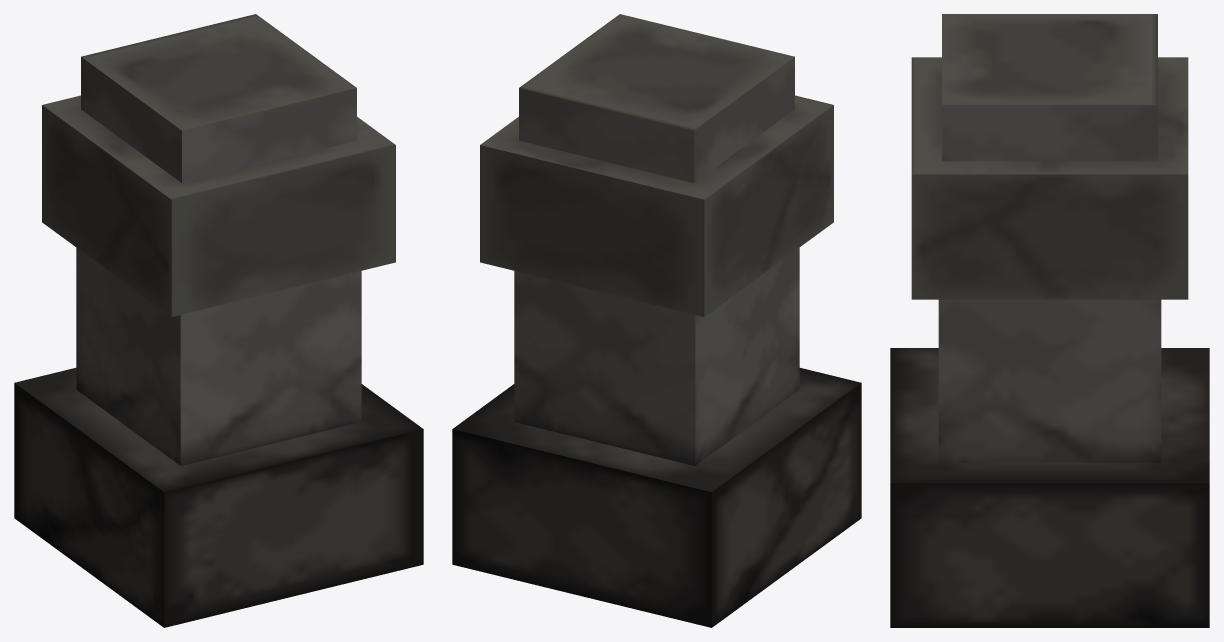
The model's file is RailingConnectionModel.fbx.
3 renders of one model, left to right at view 1: azimuth 30°, elevation 25°; view 2: azimuth 150°, elevation 25°; view 3: azimuth 270°, elevation 25°, orthographic. The views are drawn at different scales.
Visible parts, largest first — view 1: RailingConnectionModel; view 2: RailingConnectionModel; view 3: RailingConnectionModel.
Boxes of the visible parts, box(x1,y1,x2,y2) form: RailingConnectionModel: box(14, 14, 423, 627); RailingConnectionModel: box(452, 14, 861, 627); RailingConnectionModel: box(890, 14, 1209, 627).
Size of the model in its own units: 100 by 173 by 100.
